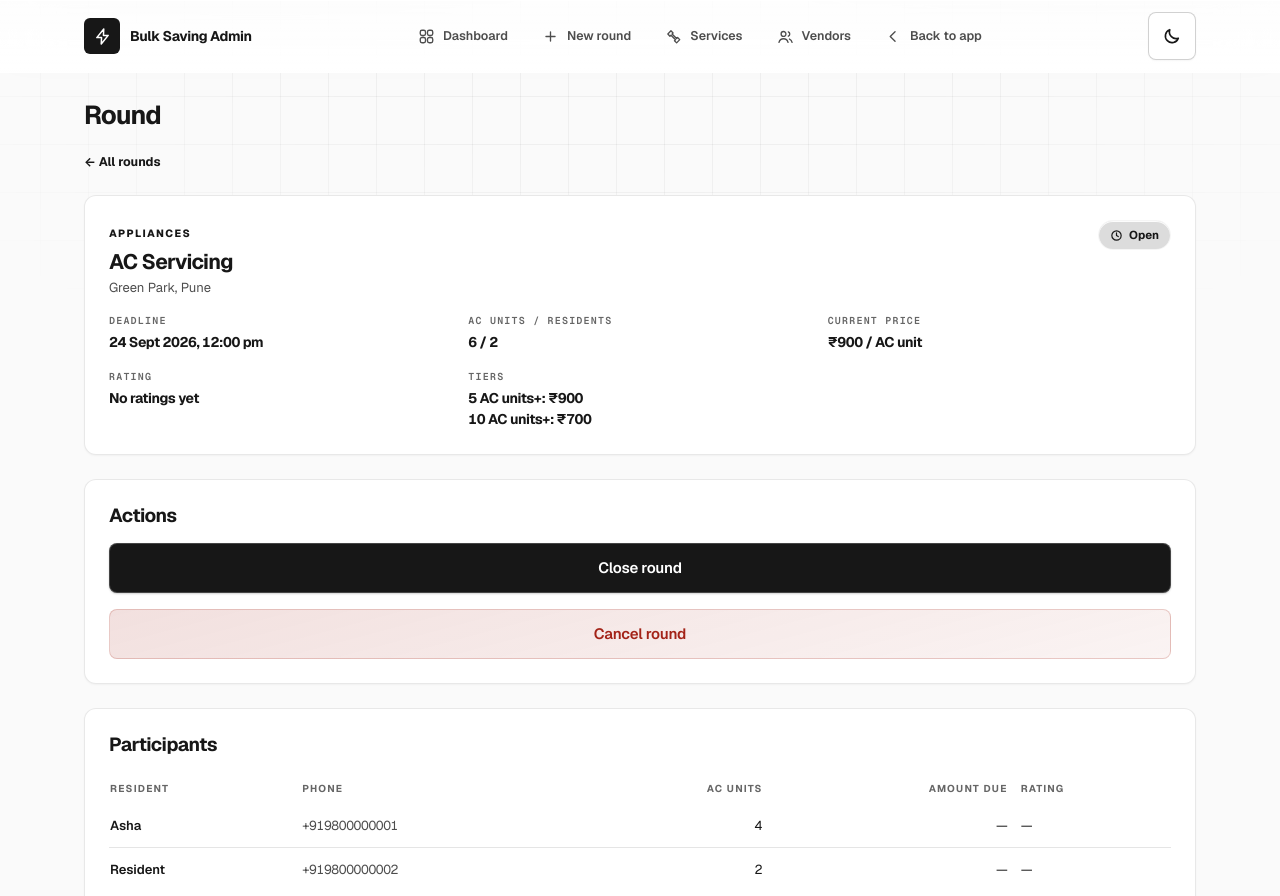
Test: AdminRoundDetailPage › shows the server error message inline when an action fails
Click the button "Close round" at (640, 568), box [109,543,1171,593]
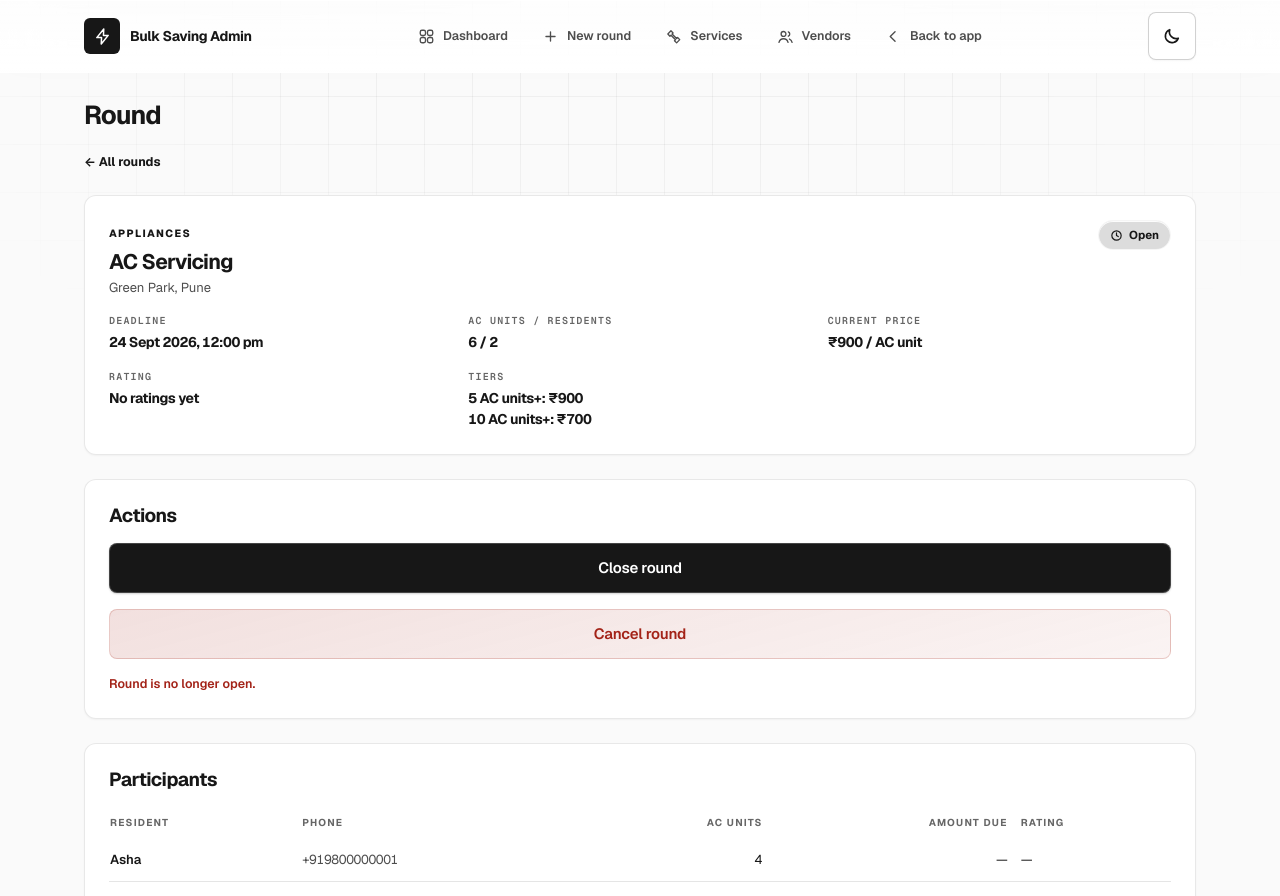
Now the message reads "Round is no longer open.", box [109,675,255,692]
